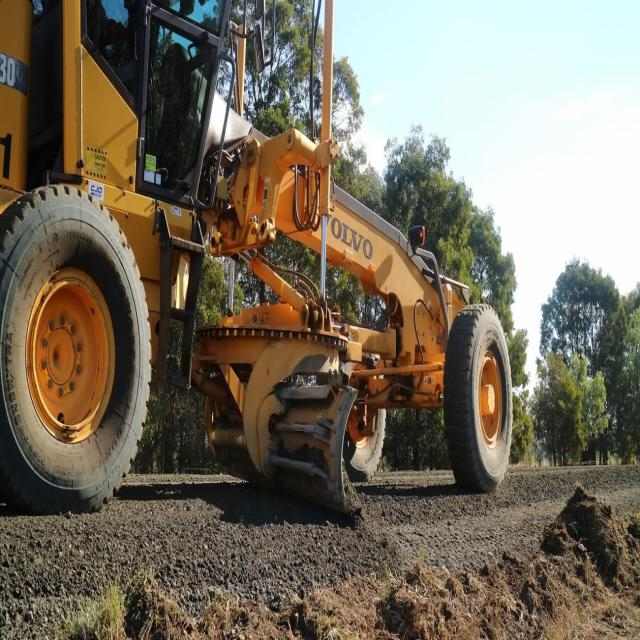Grader: (1, 0, 544, 535)
